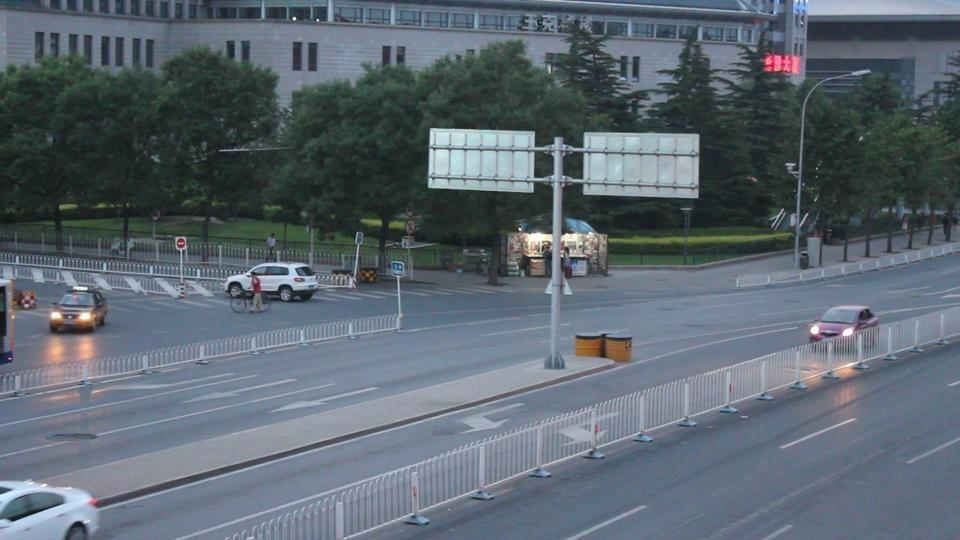car: (1, 480, 102, 539), (221, 263, 319, 301), (1, 267, 78, 307), (47, 287, 111, 333), (807, 304, 880, 343)
